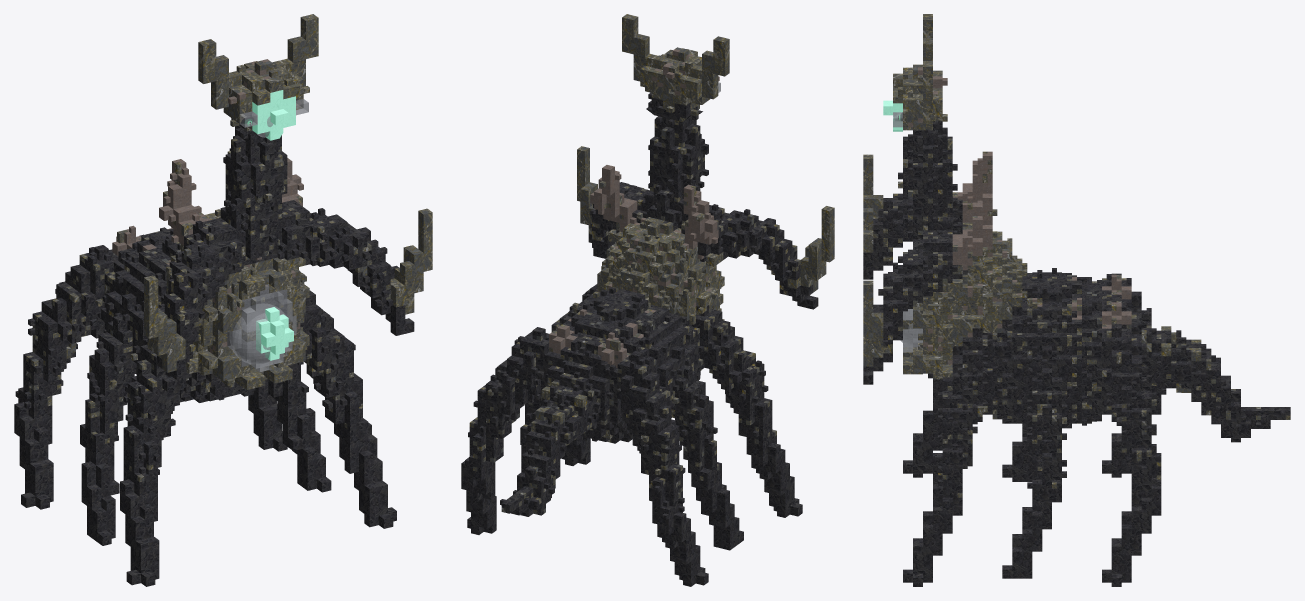
File: Venus.glb
3 views of the same model, side by side, from view 1: azimuth 30°, elevation 25°; view 2: azimuth 150°, elevation 25°; view 3: azimuth 270°, elevation 25° (orthographic). The views are drawn at different scales.
Visible parts, largest first — view 1: Venus / crown / GAME MESH, Venus / thorax / GAME MESH, Venus / L-leg--1 / GAME MESH, Venus / R-scythe / GAME MESH, Venus / R-leg-1 / GAME MESH, Venus / L-leg-1 / GAME MESH, Venus / L-scythe / GAME MESH, Venus / L-leg-0 / GAME MESH, Venus / abdomen / GAME MESH, Venus / R-leg-0 / GAME MESH, Venus / transparent reservoir faceted 3D shell, Venus / R-leg--1 / GAME MESH; view 2: Venus / abdomen / GAME MESH, Venus / thorax / GAME MESH, Venus / crown / GAME MESH, Venus / L-leg--1 / GAME MESH, Venus / L-leg-1 / GAME MESH, Venus / R-leg--1 / GAME MESH, Venus / tail / GAME MESH, Venus / L-scythe / GAME MESH, Venus / L-leg-0 / GAME MESH, Venus / R-scythe / GAME MESH, Venus / R-leg-1 / GAME MESH, Venus / R-leg-0 / GAME MESH; view 3: Venus / abdomen / GAME MESH, Venus / thorax / GAME MESH, Venus / R-leg--1 / GAME MESH, Venus / crown / GAME MESH, Venus / R-leg-1 / GAME MESH, Venus / tail / GAME MESH, Venus / R-scythe / GAME MESH, Venus / R-leg-0 / GAME MESH, Venus / L-scythe / GAME MESH, Venus / L-leg-1 / GAME MESH, Venus / L-leg--1 / GAME MESH, Venus / L-leg-0 / GAME MESH.
Boxes of the visible parts, x1,y1,x2,y2 form: Venus / crown / GAME MESH: (198,14,318,264); Venus / thorax / GAME MESH: (159,158,309,389); Venus / L-leg--1 / GAME MESH: (14,245,118,509); Venus / R-scythe / GAME MESH: (273,200,432,335); Venus / R-leg-1 / GAME MESH: (263,284,396,528); Venus / L-leg-1 / GAME MESH: (120,306,195,586); Venus / L-scythe / GAME MESH: (144,218,245,391); Venus / L-leg-0 / GAME MESH: (80,304,141,545); Venus / abdomen / GAME MESH: (97,225,271,402); Venus / R-leg-0 / GAME MESH: (268,361,331,492); Venus / transparent reservoir faceted 3D shell: (230,303,289,364); Venus / R-leg--1 / GAME MESH: (241,379,287,451); Venus / abdomen / GAME MESH: (540,287,704,443); Venus / thorax / GAME MESH: (590,165,724,324); Venus / crown / GAME MESH: (622,14,729,230); Venus / L-leg--1 / GAME MESH: (609,351,708,586); Venus / L-leg-1 / GAME MESH: (691,305,802,517); Venus / R-leg--1 / GAME MESH: (461,327,556,534); Venus / tail / GAME MESH: (500,373,600,516); Venus / L-scythe / GAME MESH: (681,204,834,309); Venus / L-leg-0 / GAME MESH: (667,346,743,550); Venus / R-scythe / GAME MESH: (577,146,649,258); Venus / R-leg-1 / GAME MESH: (561,284,597,465); Venus / R-leg-0 / GAME MESH: (520,392,551,497); Venus / abdomen / GAME MESH: (982,268,1146,428); Venus / thorax / GAME MESH: (903,151,1027,379); Venus / R-leg--1 / GAME MESH: (1092,324,1161,586); Venus / crown / GAME MESH: (883,14,967,239); Venus / R-leg-1 / GAME MESH: (903,328,1002,586); Venus / tail / GAME MESH: (1141,321,1290,442); Venus / R-scythe / GAME MESH: (863,230,967,384); Venus / R-leg-0 / GAME MESH: (1002,368,1066,578); Venus / L-scythe / GAME MESH: (863,154,912,279); Venus / L-leg-1 / GAME MESH: (903,373,942,477); Venus / L-leg--1 / GAME MESH: (1102,273,1166,477); Venus / L-leg-0 / GAME MESH: (1002,428,1032,481).
Size of the model in its own units: 8.06 by 14.04 by 11.18.
Materials: 12 (7 with a texture image).
